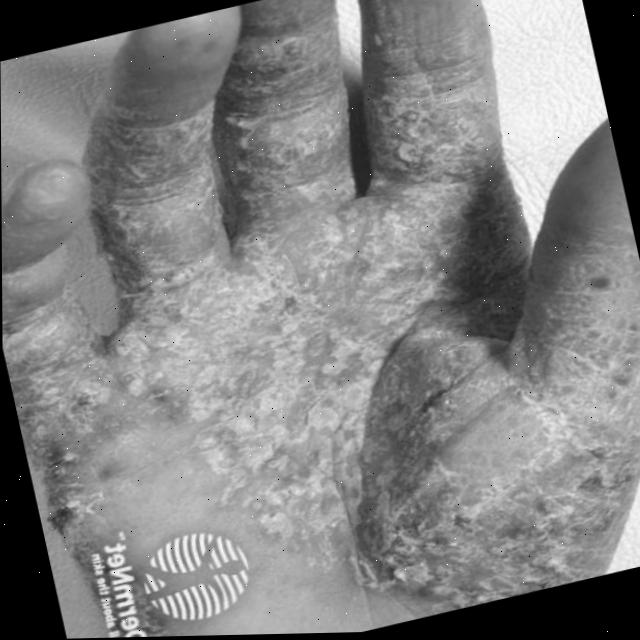Eczema: (20, 58, 623, 640)
